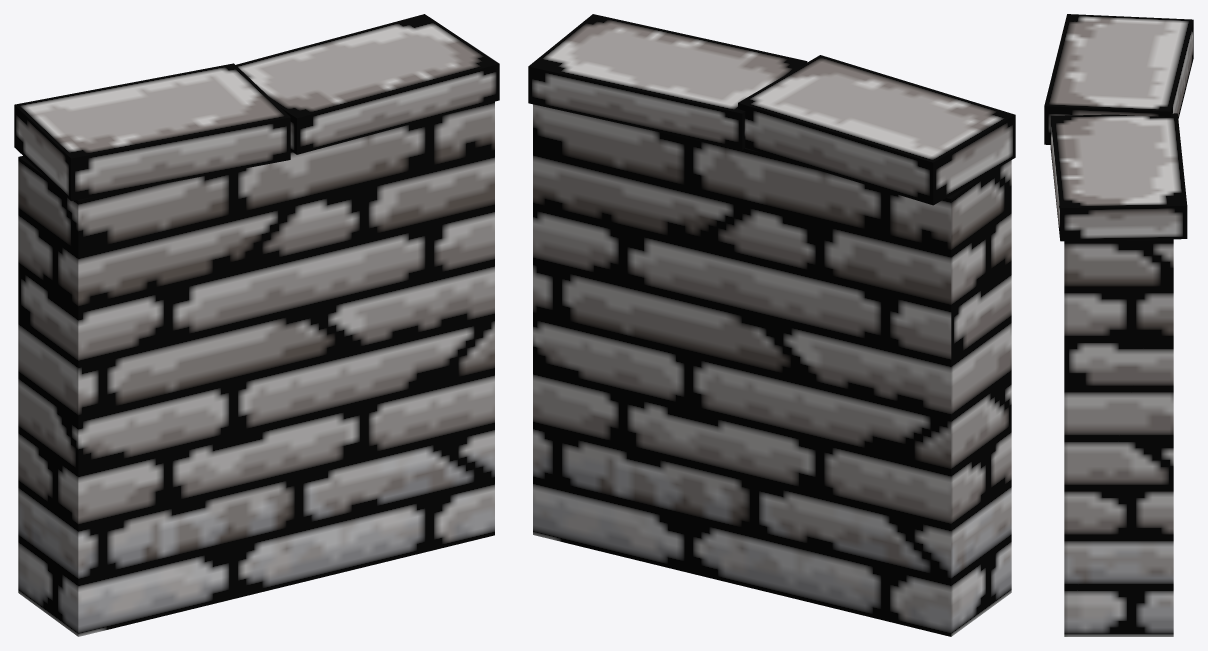
File: deco_winter_wallTall.FBX
3 views of the same model, side by side, from view 1: azimuth 30°, elevation 25°; view 2: azimuth 150°, elevation 25°; view 3: azimuth 270°, elevation 25° (orthographic). The views are drawn at different scales.
Parts seen in each view (by area): view 1: deco_winter_wallTall; view 2: deco_winter_wallTall; view 3: deco_winter_wallTall.
Boxes of the visible parts, x1,y1,x2,y2 form: deco_winter_wallTall: [14, 14, 499, 636]; deco_winter_wallTall: [528, 14, 1015, 636]; deco_winter_wallTall: [1044, 14, 1193, 636].
Size of the model in its own units: 2.04 by 2.2 by 0.6822.
1 material, 1 textured.
